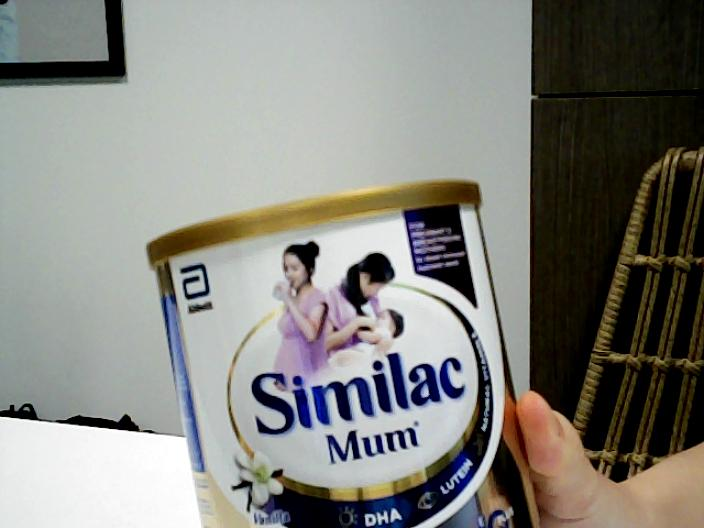MaternalMilkPowder_400-499g_NonHalal_Healthy: (144, 180, 542, 528)
